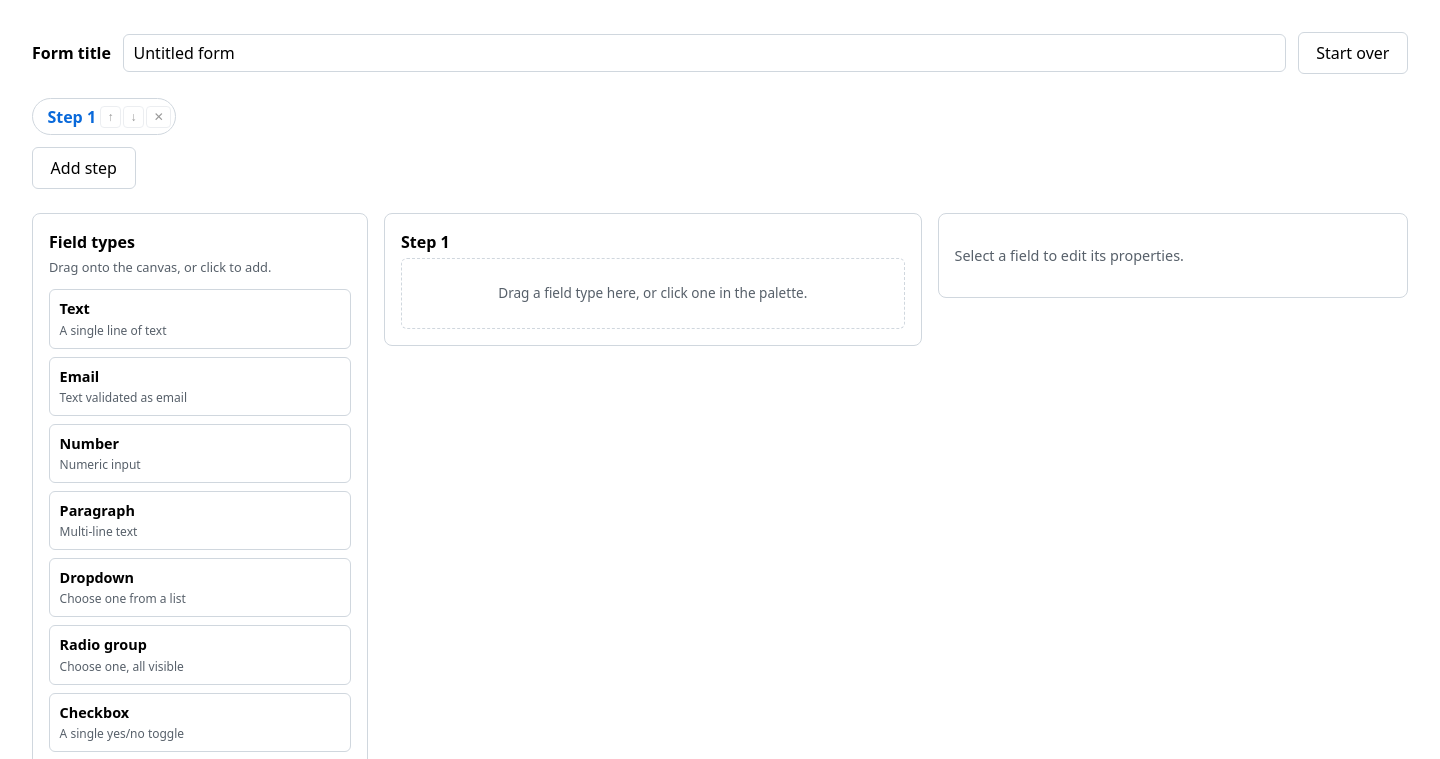
Scenario: BuilderPage › removing a field from the canvas clears it from the live preview
Step 1. Click the button "Text A single line of text" → (75, 309), box [49,289,351,348]
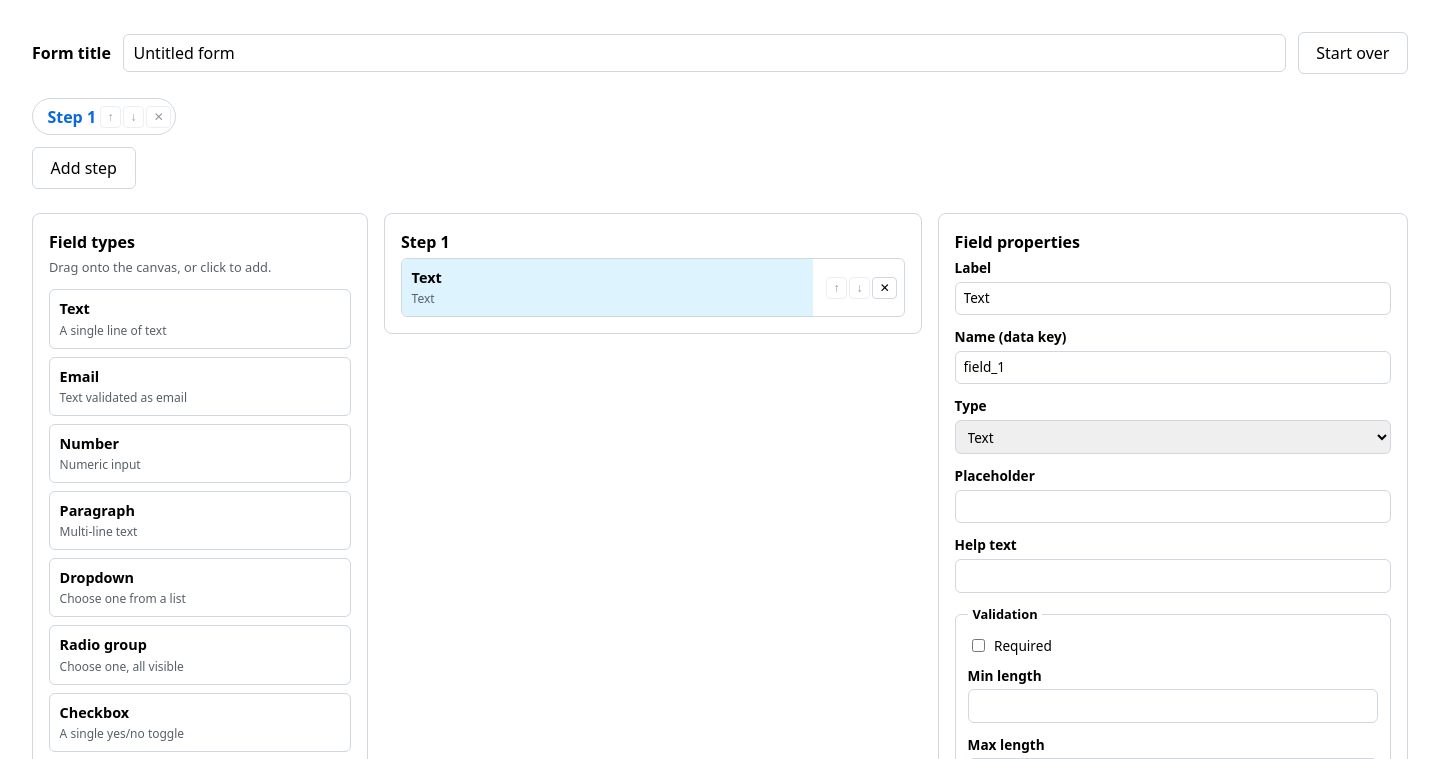
Step 2. Replace the text in the field labelled "Label" with "Nickname" → (1173, 298), box [955,282,1391,315]
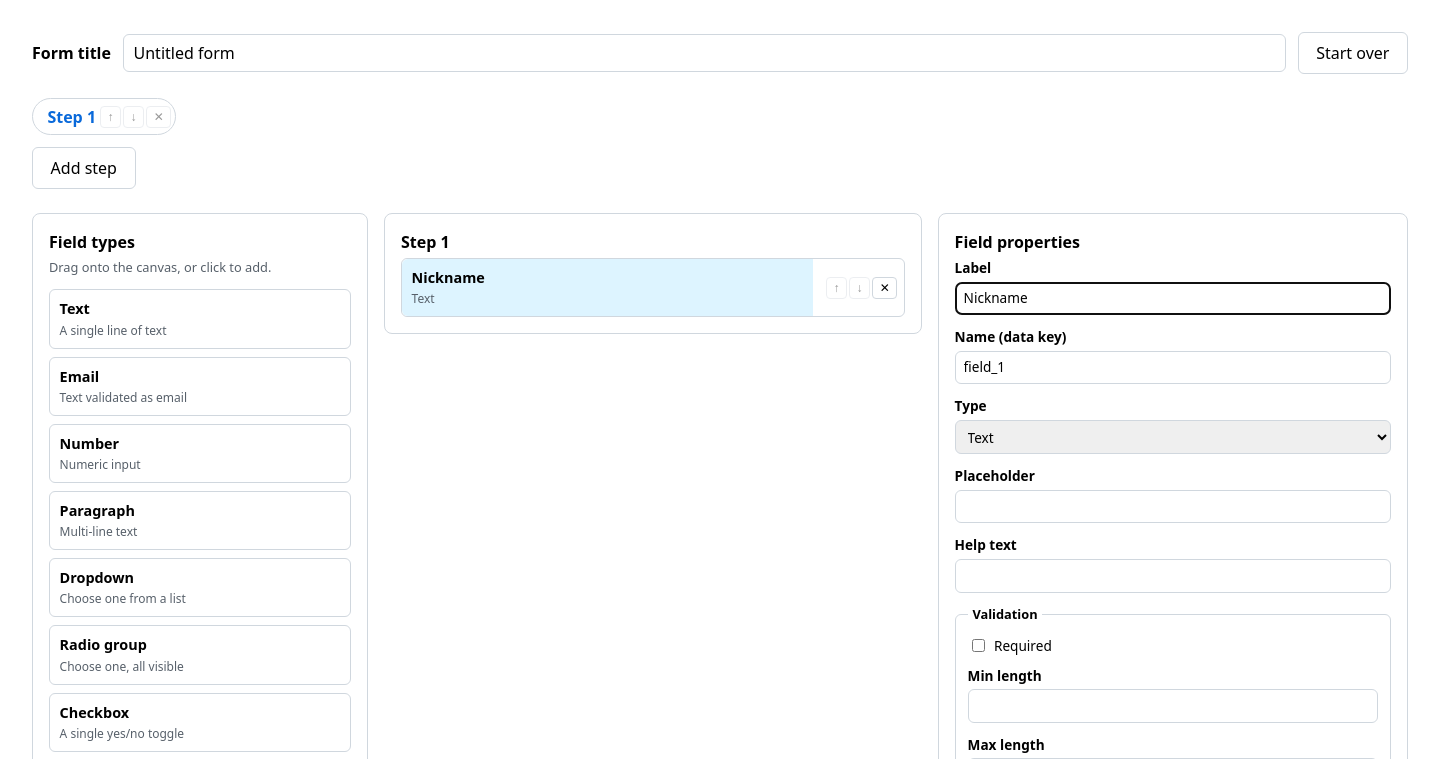
Step 3. Click the button named "Remove Nickname" → (885, 288), box [872,277,897,299]
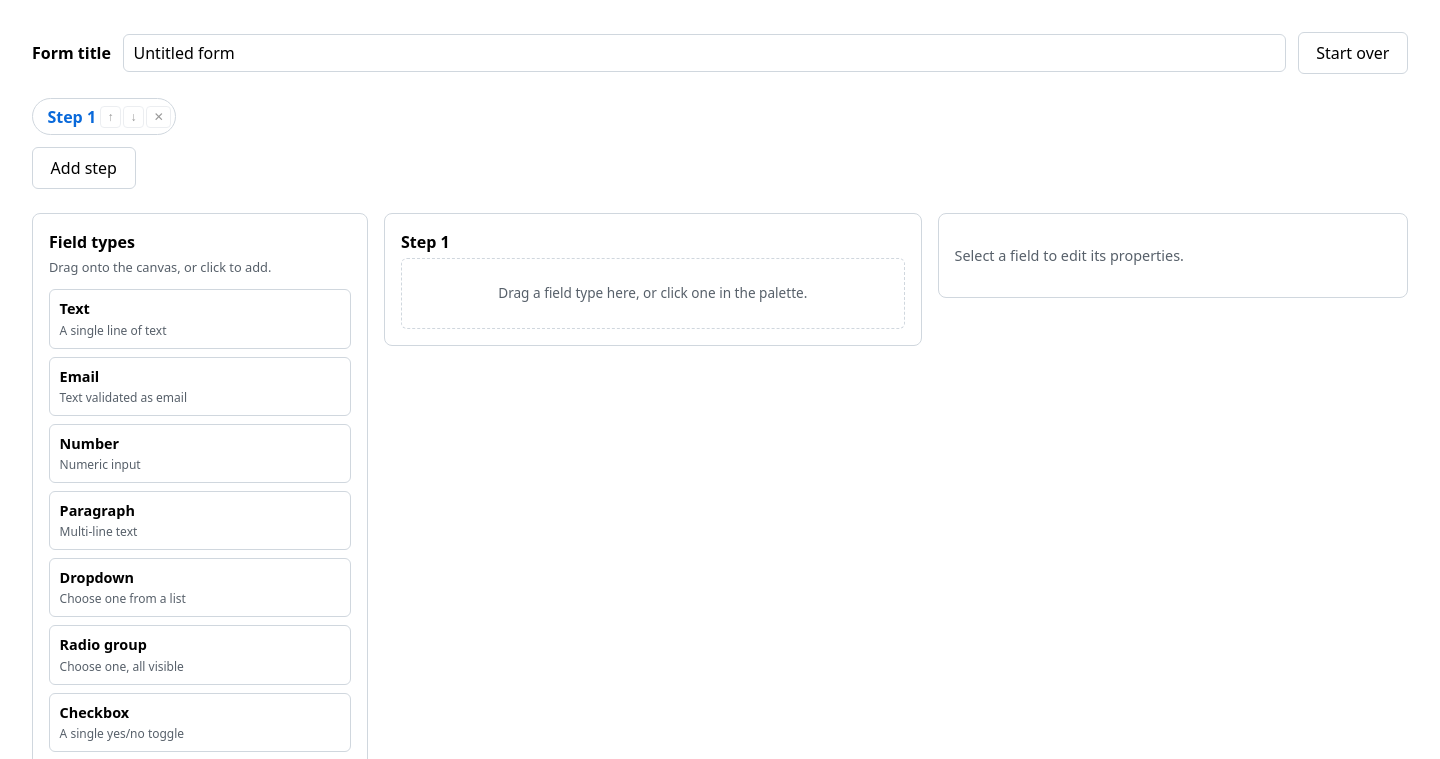
Expected: the button labelled "Nickname" is gone
Expected: the text "Select a field to edit its properties." is shown, [955,246,1184,264]
